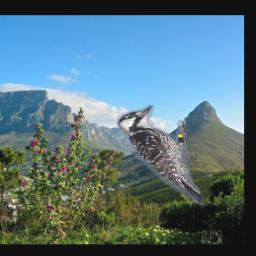Woodpecker: (117, 106, 204, 205)
